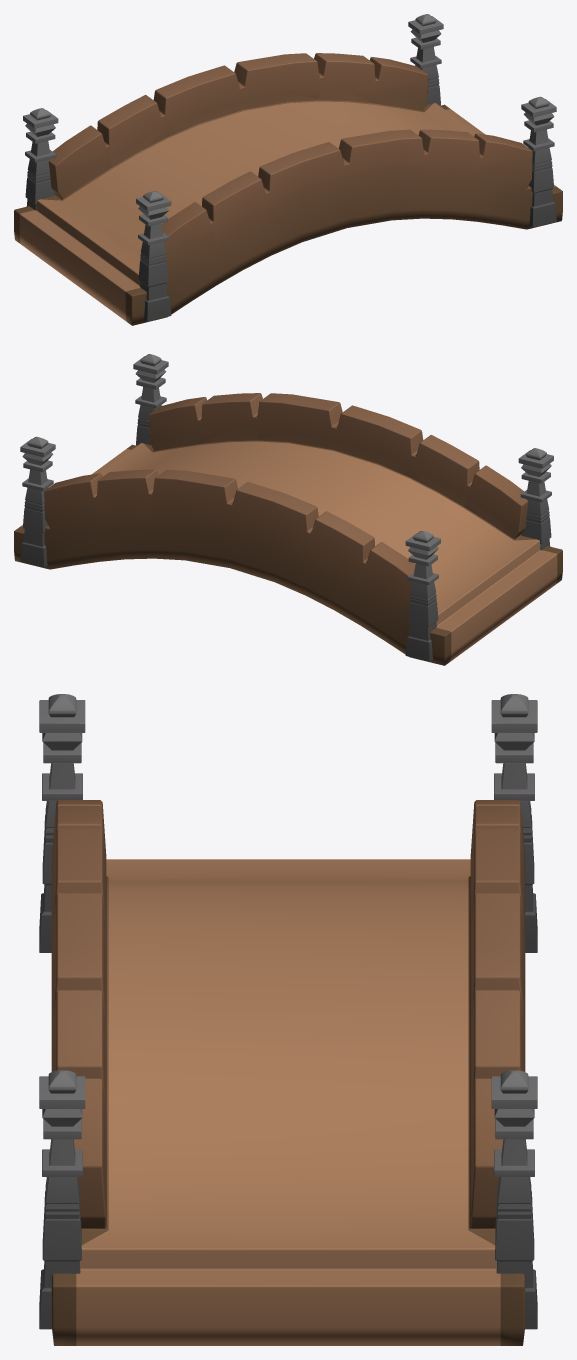
The model's file is Bridge_2.fbx.
3 views of the same model, one above another, from view 1: azimuth 30°, elevation 25°; view 2: azimuth 150°, elevation 25°; view 3: azimuth 270°, elevation 25° (orthographic). The views are drawn at different scales.
Visible parts, largest first — view 1: Bridge_2; view 2: Bridge_2; view 3: Bridge_2.
Part boxes in pixels (x1,y1,x2,y2): Bridge_2: [14, 14, 562, 325]; Bridge_2: [14, 354, 562, 665]; Bridge_2: [39, 694, 537, 1345].
Bounding box in the file's own units: 692 × 195 × 346.
